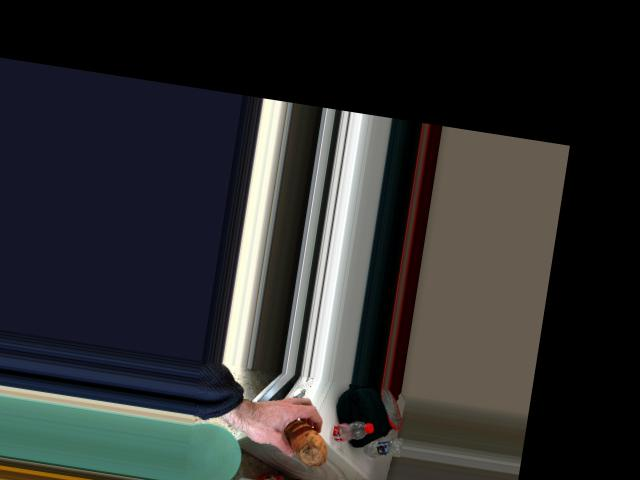sweet_potato: (277, 418, 330, 465)
